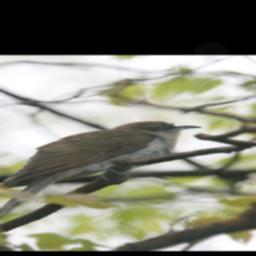Cuckoo: (0, 120, 200, 231)
